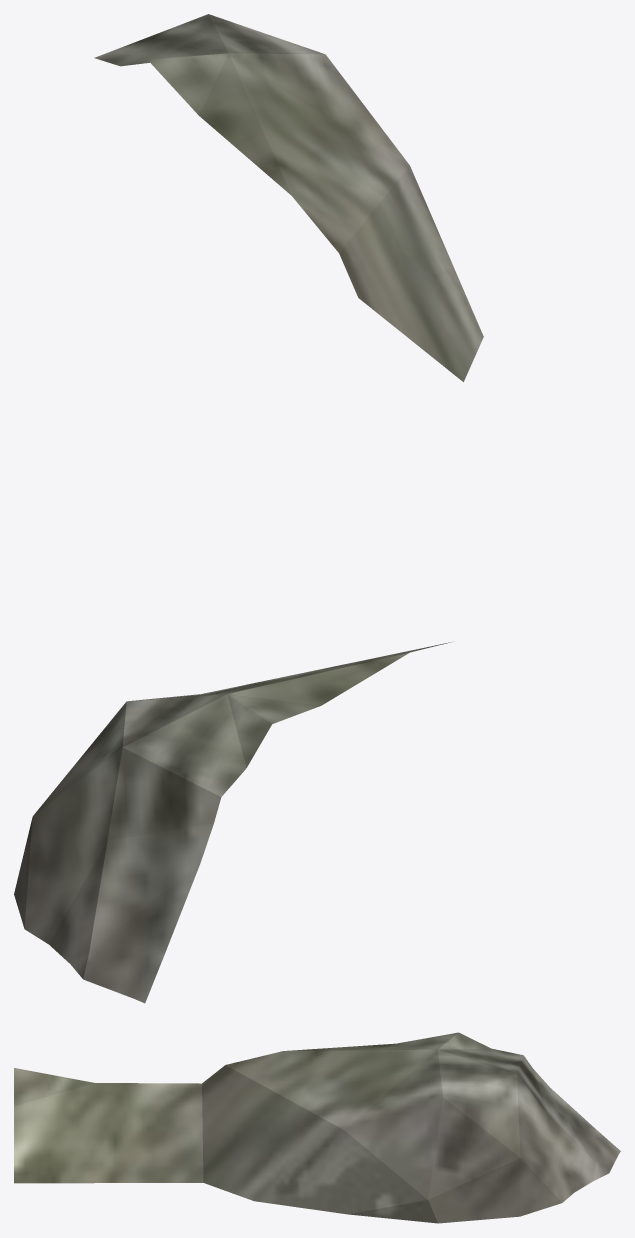
The picture shows the model from 3 angles, top to bottom: view 1: azimuth 30°, elevation 25°; view 2: azimuth 150°, elevation 25°; view 3: azimuth 270°, elevation 25°; orthographic projection. The views are drawn at different scales.
Size of the model in its own units: 0.3721 by 0.2898 by 1.32.
Materials: 1 (1 with a texture image).
